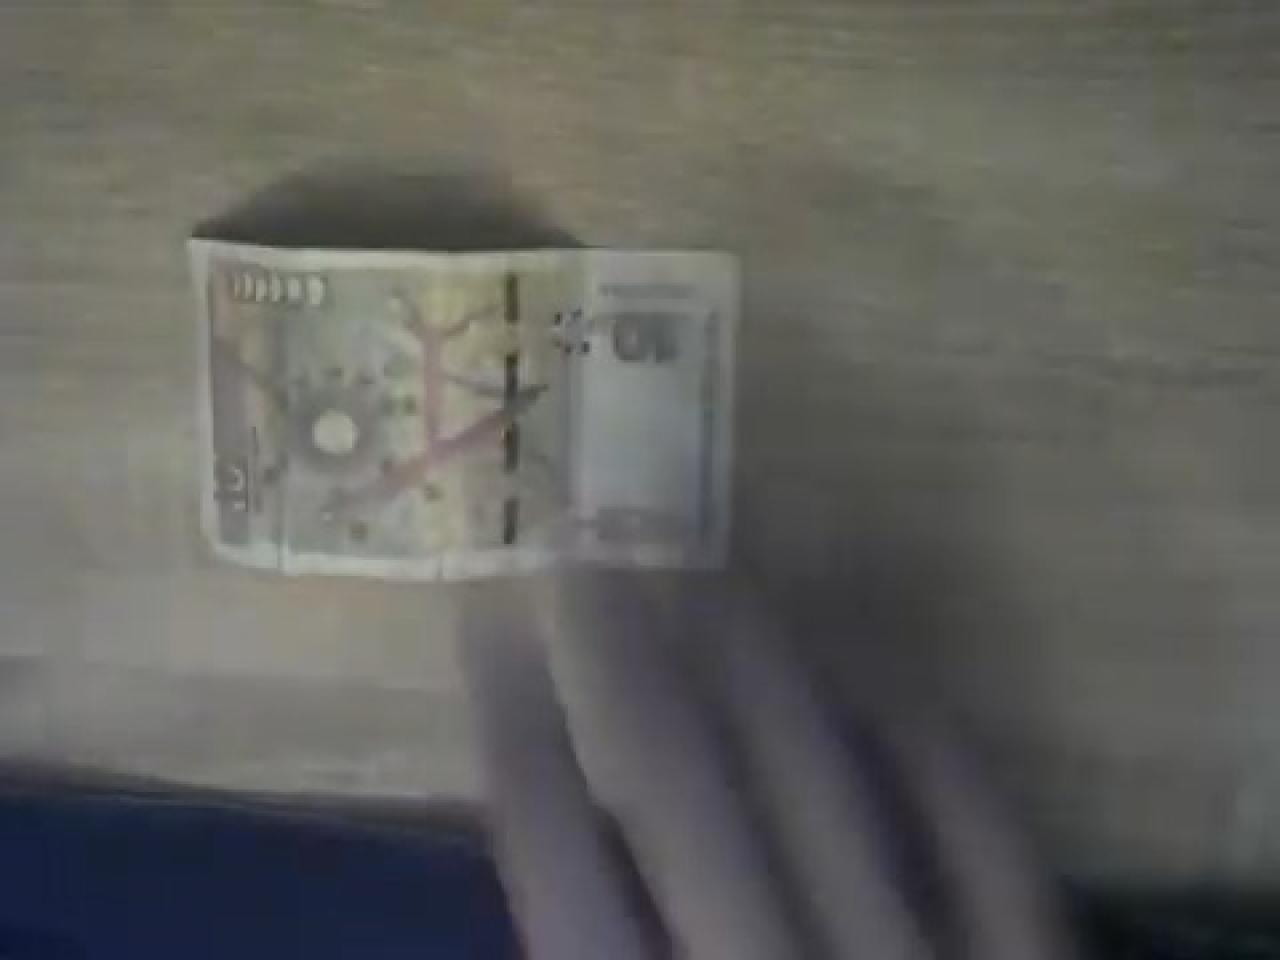10leva: (189, 235, 744, 579)
